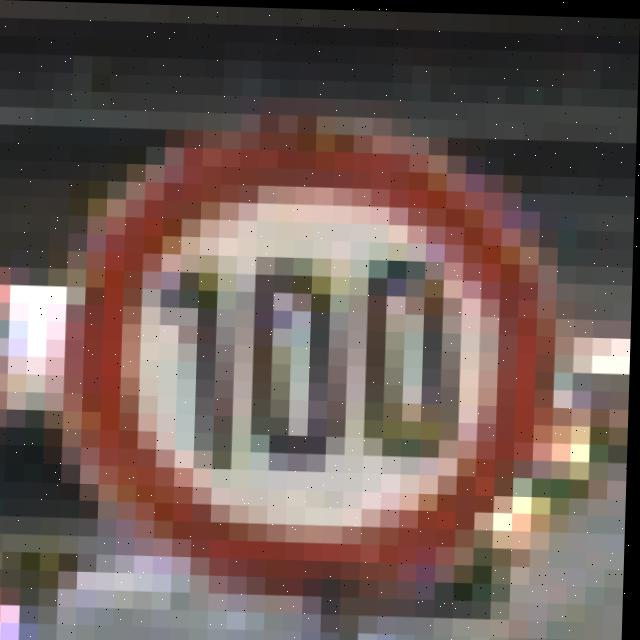speed_limit_100: (60, 123, 561, 579)
